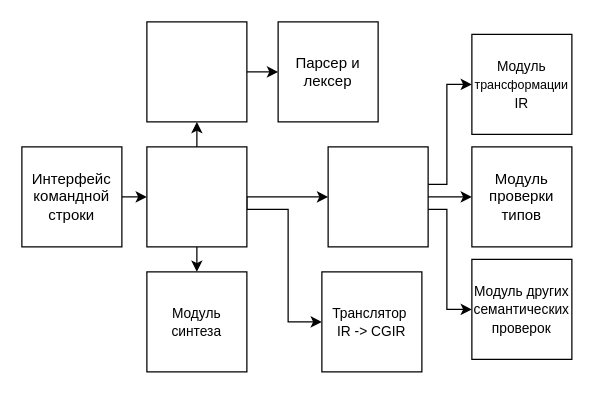
The diagram is 594 pixels wide and 394 high, and some of its shapes have lost their labels. Here are the shapes that lost their labels. From the top down, the box of each, then its label:
(146, 21, 247, 122): Модуль построения IR
(146, 146, 247, 247): Ядро транслятора
(327, 146, 428, 247): Модуль семантического анализа
